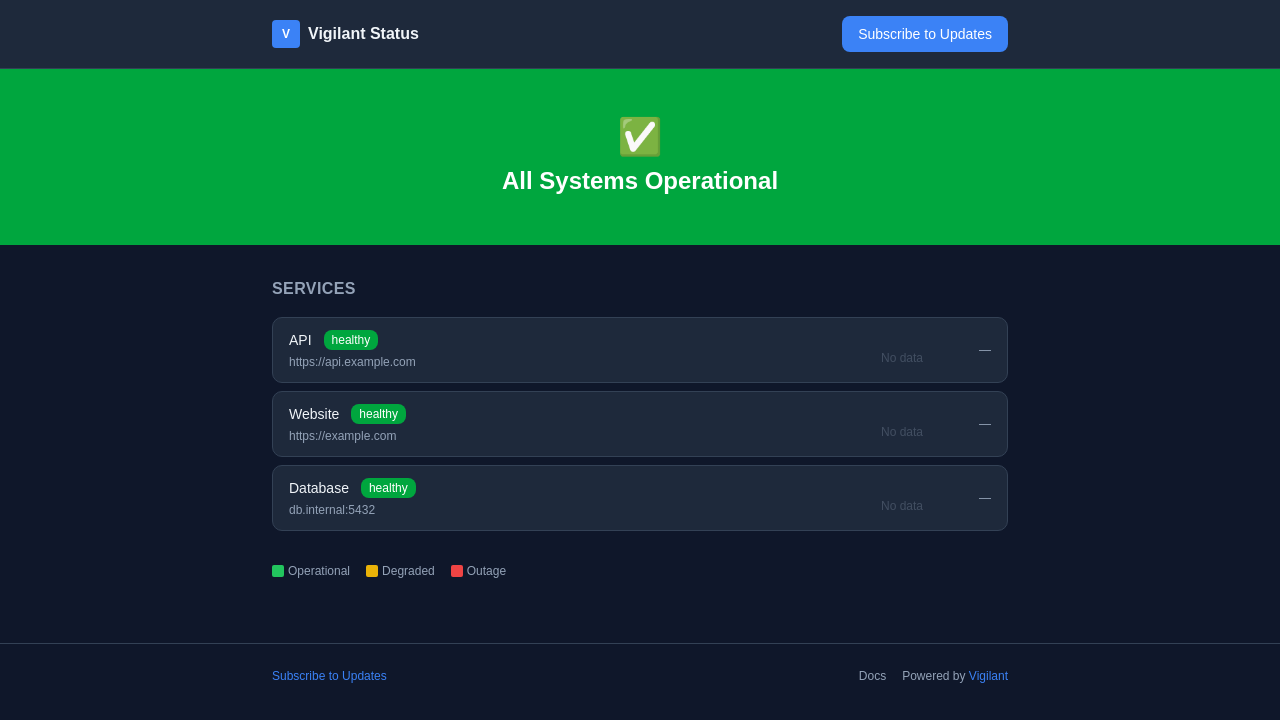
PublicStatus › closes subscribe modal on X button click
This screenshot has width=1280, height=720.
Click the button "Subscribe to Updates" in the row of "Vigilant Status" at x=925, y=34, box [842,16,1008,52]
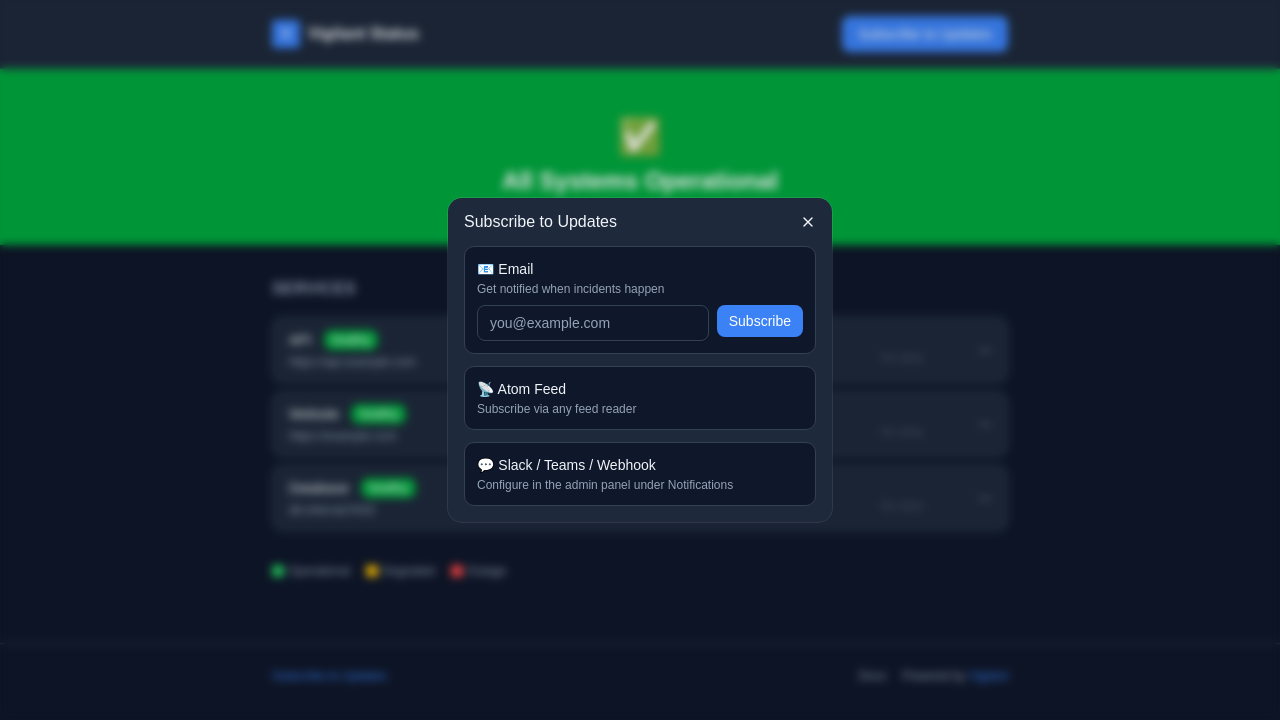
// Click the accessible close button (shadcn Dialog)
Click the button named "Close" at x=808, y=222, box [792,206,824,238]
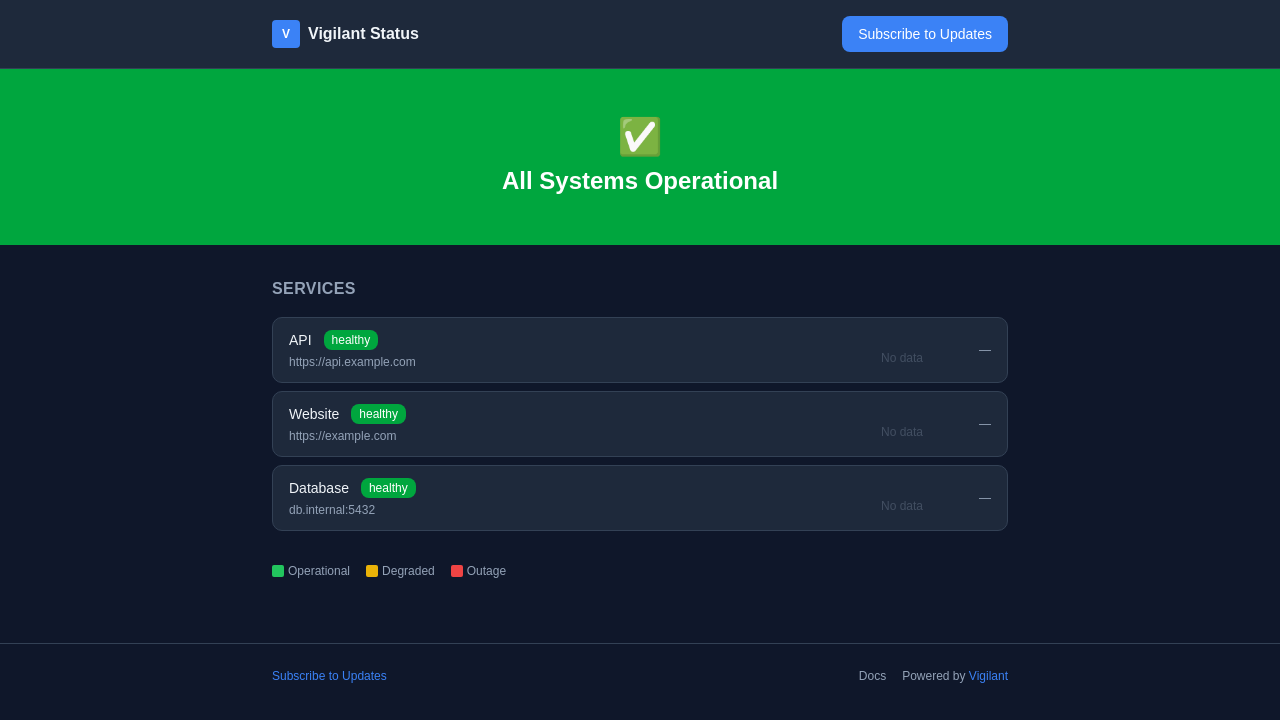
Result: the text "📧 Email" is gone
